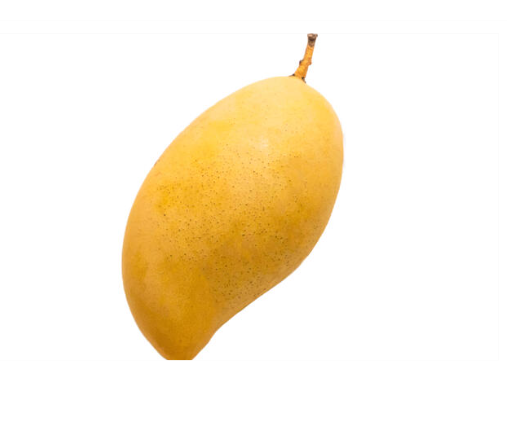mango: (121, 70, 346, 362)
